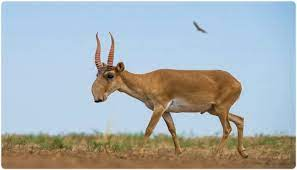saiga: (92, 30, 254, 159)
